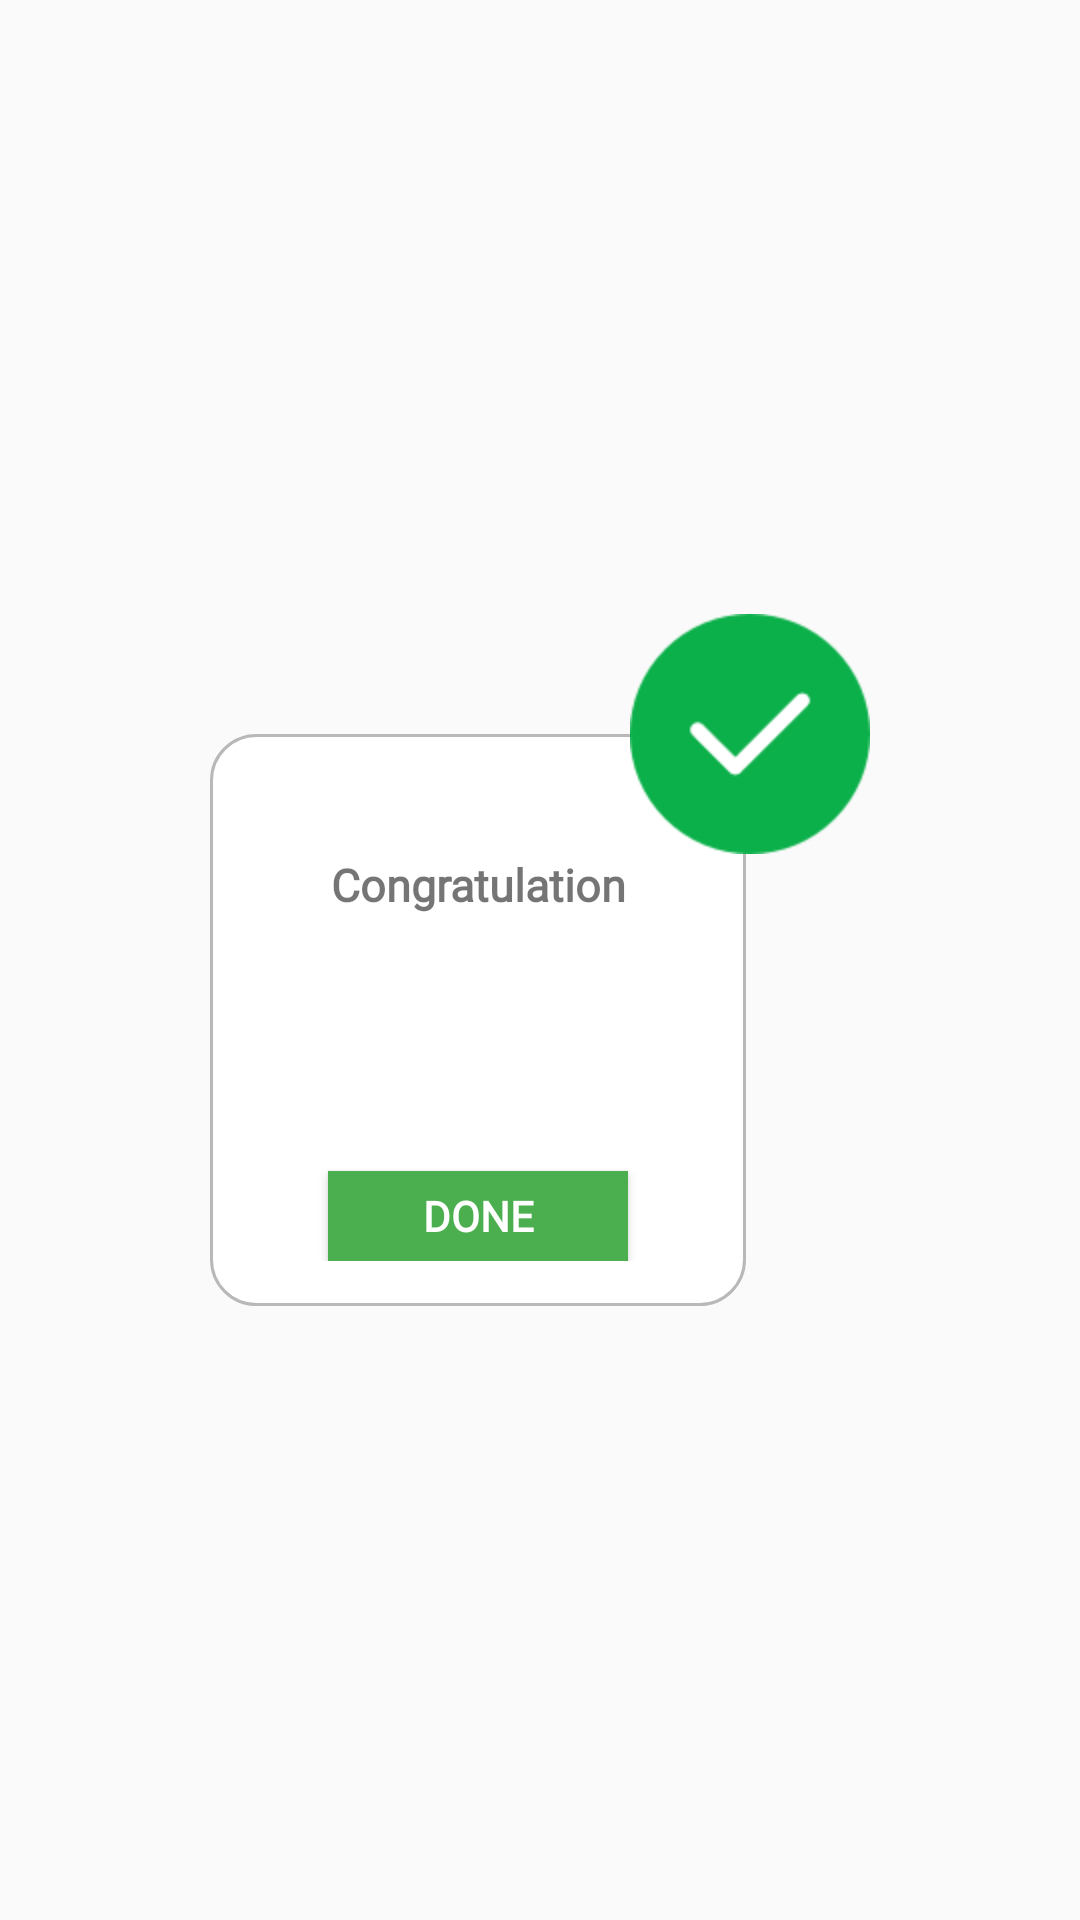

Named icons in this screenshot (1080x1920) and their centers, [x,y]:
success: [750,734]
